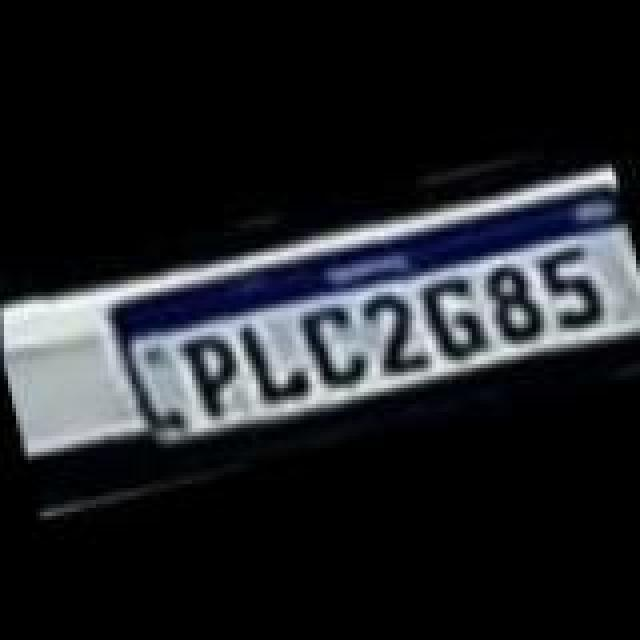2: (354, 274, 438, 382)
5: (528, 236, 604, 332)
8: (472, 248, 552, 352)
C: (288, 290, 368, 394)
G: (412, 262, 492, 366)
L: (232, 306, 316, 406)
P: (170, 322, 250, 426)
